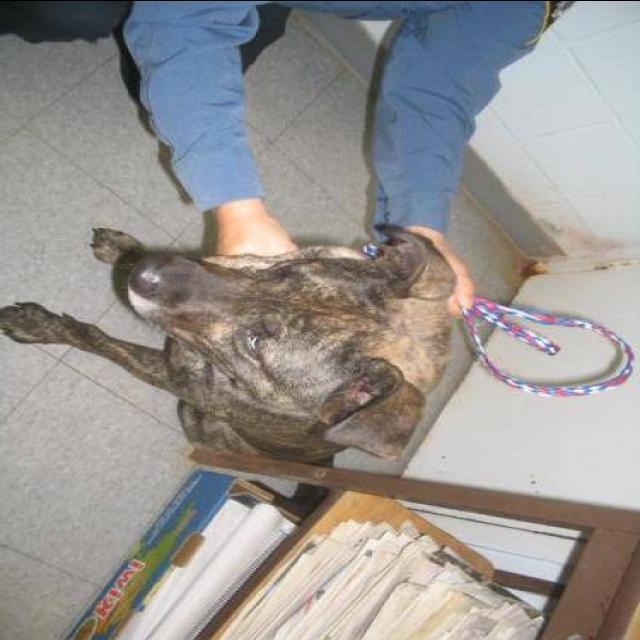dog: (0, 199, 476, 485)
